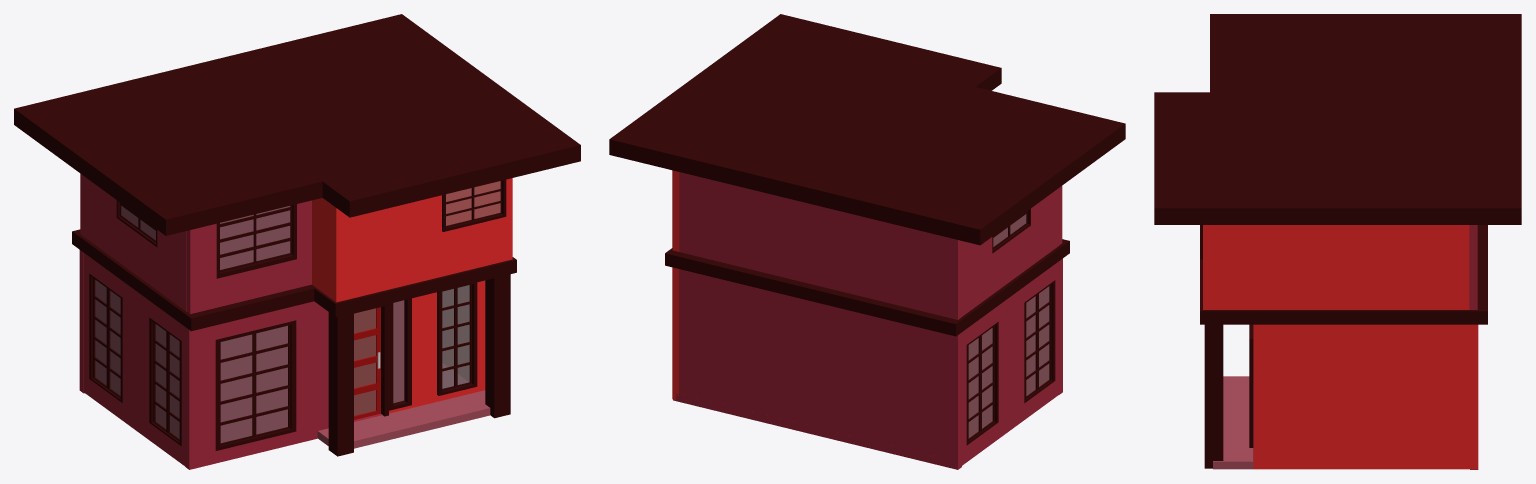
File: Modern House 3.FBX
3 renders of one model, left to right at view 1: azimuth 30°, elevation 25°; view 2: azimuth 150°, elevation 25°; view 3: azimuth 270°, elevation 25°, orthographic. The views are drawn at different scales.
Parts seen in each view (by area): view 1: Box016, Box006, Box010, Box003, Box009, Box008, Box014, Box019, Box017, Box018, Box011, Box004 (+1 smaller); view 2: Box016, Box015, Box013, Box003, Box008, Box014, Box001, Box004, Box012, Box006; view 3: Box016, Box004, Box012, Box008, Box018, Box019, Box010, Box013, Box006.
Boxes of the visible parts, left/top/right/bottom form: Box016: left=14, top=14, right=580, bottom=235; Box006: left=185, top=280, right=485, bottom=469; Box010: left=332, top=178, right=512, bottom=302; Box003: left=84, top=253, right=185, bottom=466; Box009: left=187, top=200, right=311, bottom=314; Box008: left=72, top=229, right=516, bottom=331; Box014: left=84, top=177, right=186, bottom=311; Box019: left=317, top=390, right=490, bottom=448; Box017: left=328, top=312, right=353, bottom=456; Box018: left=485, top=274, right=510, bottom=418; Box011: left=312, top=198, right=332, bottom=298; Box004: left=442, top=285, right=469, bottom=381; Box016: left=609, top=14, right=1125, bottom=245; Box015: left=673, top=269, right=961, bottom=469; Box013: left=672, top=170, right=961, bottom=319; Box003: left=951, top=261, right=1058, bottom=468; Box008: left=665, top=239, right=1069, bottom=336; Box014: left=962, top=188, right=1059, bottom=316; Box001: left=676, top=393, right=953, bottom=467; Box004: left=672, top=267, right=678, bottom=400; Box012: left=672, top=170, right=679, bottom=251; Box006: left=1059, top=258, right=1062, bottom=394; Box016: left=1154, top=14, right=1521, bottom=224; Box004: left=1253, top=324, right=1478, bottom=469; Box012: left=1211, top=225, right=1469, bottom=309; Box008: left=1200, top=225, right=1487, bottom=324; Box018: left=1204, top=324, right=1223, bottom=468; Box019: left=1213, top=376, right=1253, bottom=469; Box010: left=1200, top=225, right=1211, bottom=309; Box013: left=1469, top=225, right=1477, bottom=309; Box006: left=1249, top=324, right=1253, bottom=460.
Bounding box in the file's own units: 2289 × 1564 × 1830.
